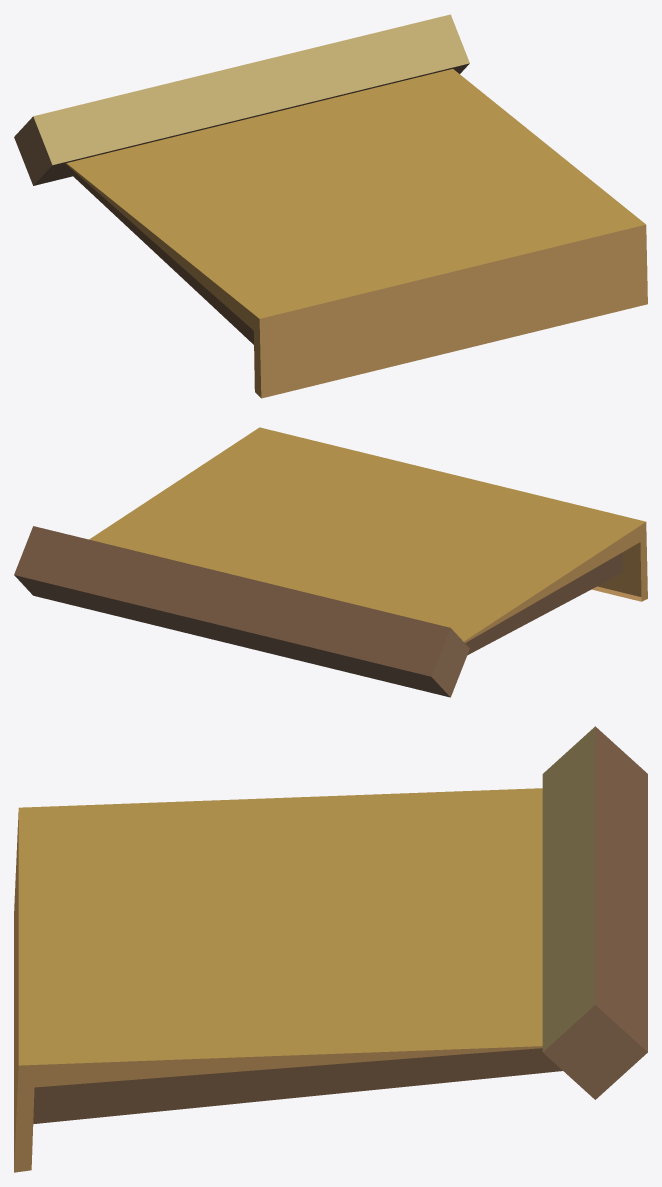
File: TB_D_Bd_Canopy_Sol_D.FBX
3 renders of one model, top to bottom at view 1: azimuth 30°, elevation 25°; view 2: azimuth 150°, elevation 25°; view 3: azimuth 270°, elevation 25°, orthographic. The views are drawn at different scales.
Parts seen in each view (by area): view 1: TB_D_Bd_Canopy_Sol_D; view 2: TB_D_Bd_Canopy_Sol_D; view 3: TB_D_Bd_Canopy_Sol_D.
Part boxes in pixels (x1,y1,x2,y2): TB_D_Bd_Canopy_Sol_D: (14, 14, 647, 398); TB_D_Bd_Canopy_Sol_D: (14, 427, 647, 697); TB_D_Bd_Canopy_Sol_D: (14, 726, 647, 1172).
Size of the model in its own units: 1.88 by 0.5606 by 1.81.
